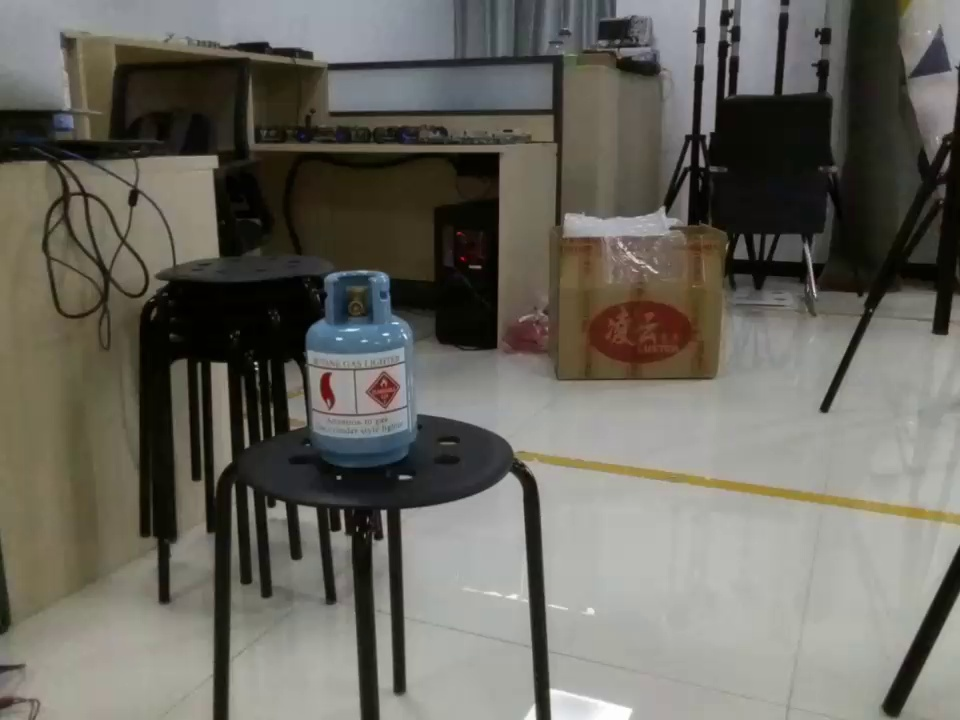gas tank: (304, 266, 428, 480)
